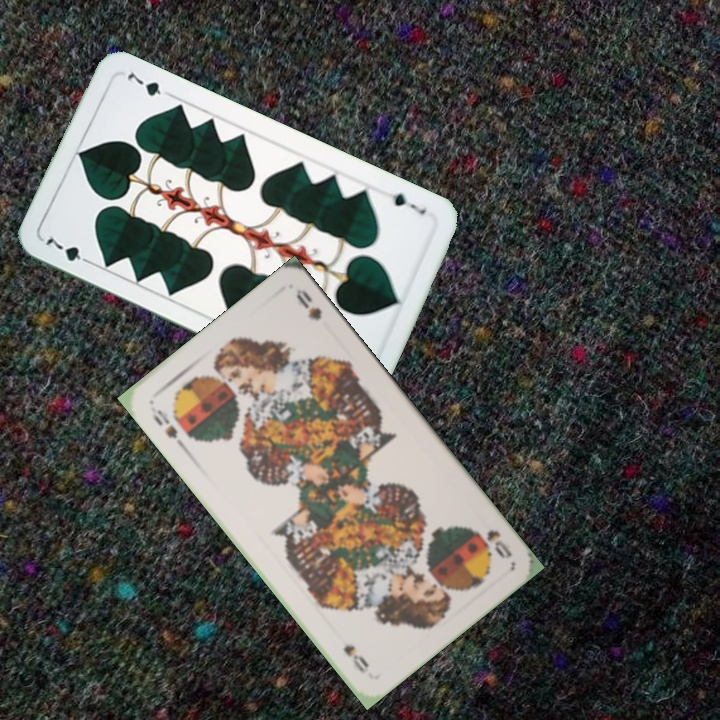G7: (42, 230, 96, 268), (388, 189, 429, 218)
SO: (146, 402, 188, 452), (472, 525, 515, 562)
